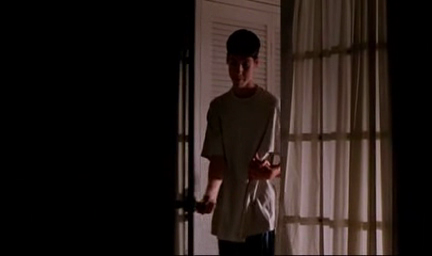face: (228, 53, 253, 87)
ms: (1, 1, 432, 256)
person: (197, 29, 281, 256)
